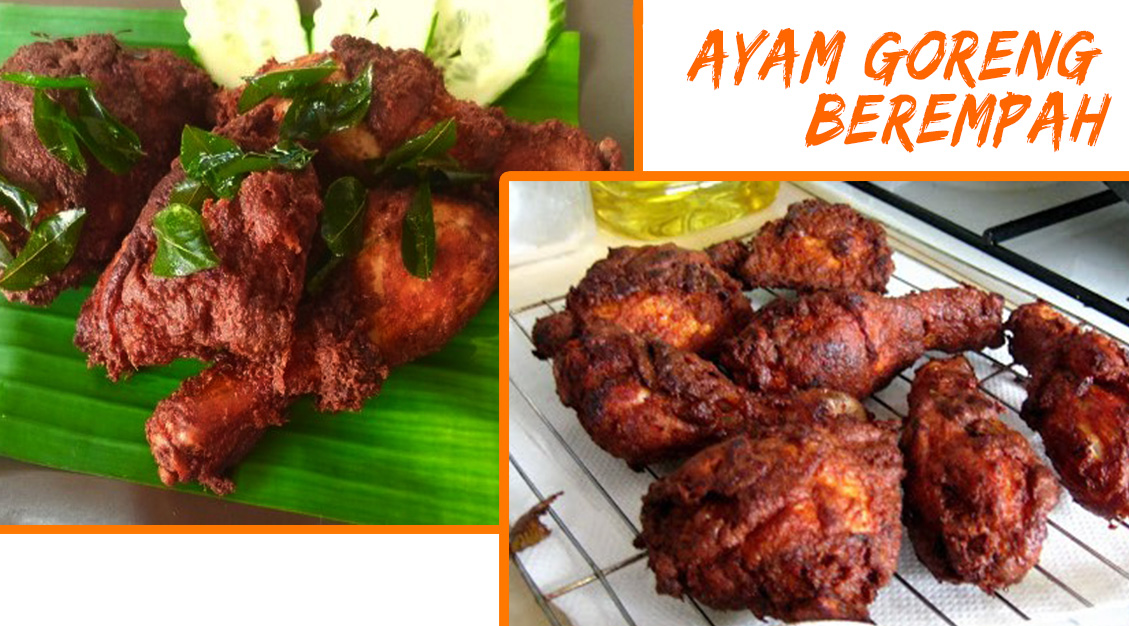Ayam: (139, 189, 498, 501), (51, 122, 326, 359), (635, 393, 914, 617), (882, 355, 1056, 610), (730, 244, 997, 393), (523, 219, 729, 365), (1000, 298, 1129, 527)
